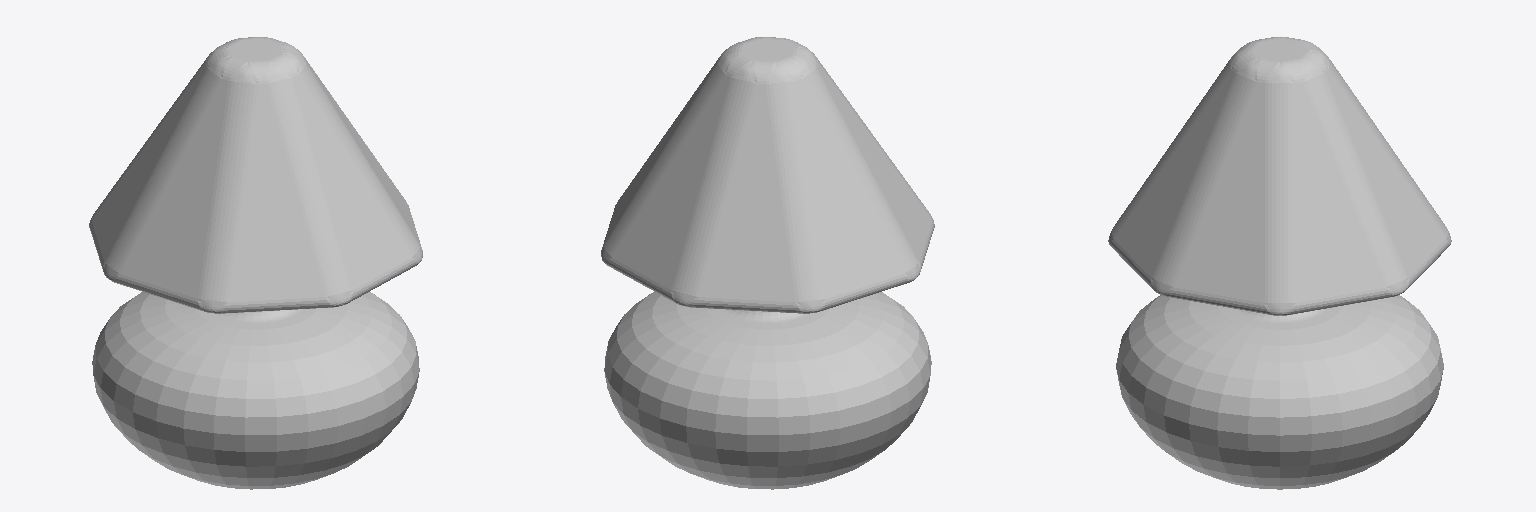
The model's file is lamp.obj.
The picture shows the model from 3 angles: view 1: azimuth 30°, elevation 25°; view 2: azimuth 150°, elevation 25°; view 3: azimuth 270°, elevation 25°; orthographic projection.
Visible parts, largest first — view 1: lamp; view 2: lamp; view 3: lamp.
Part boxes in pixels (x1,y1,x2,y2): lamp: (89,37,422,489); lamp: (601,37,934,489); lamp: (1108,37,1451,489).
Bounding box in the file's own units: 0.3147 × 0.4164 × 0.3147.